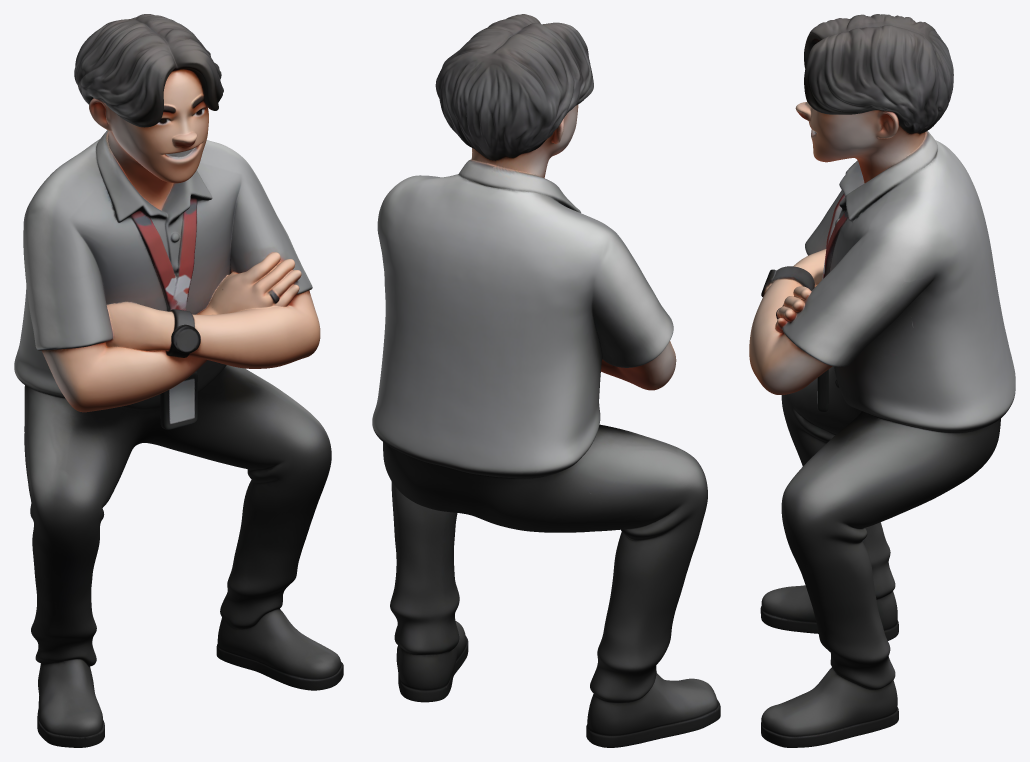
The model's file is RimbaPM.fbx.
3 views of the same model, side by side, from view 1: azimuth 30°, elevation 25°; view 2: azimuth 150°, elevation 25°; view 3: azimuth 270°, elevation 25° (orthographic). The views are drawn at different scales.
Visible parts, largest first — view 1: tripo_node_5b99406e; view 2: tripo_node_5b99406e; view 3: tripo_node_5b99406e.
Part boxes in pixels (box(x1,y1,x2,y2)): tripo_node_5b99406e: box(14, 14, 343, 747); tripo_node_5b99406e: box(372, 14, 720, 747); tripo_node_5b99406e: box(749, 14, 1015, 747).
Bounding box in the file's own units: 0.4737 × 1 × 0.3691.
